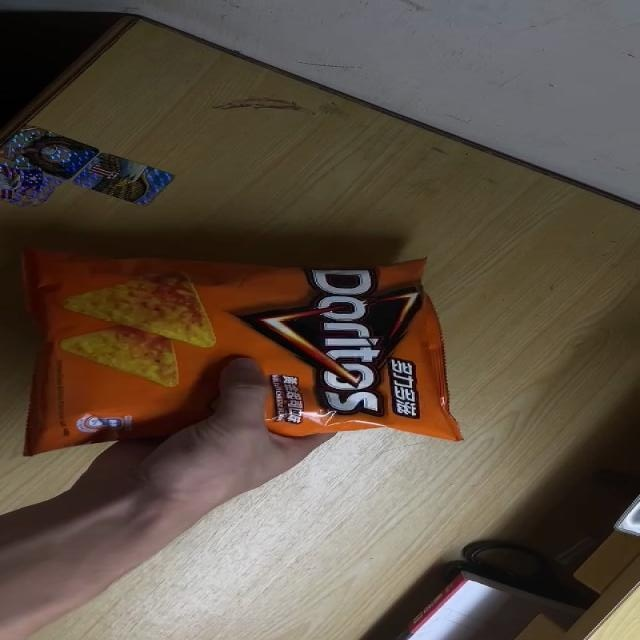Doritos: (22, 253, 463, 458)
